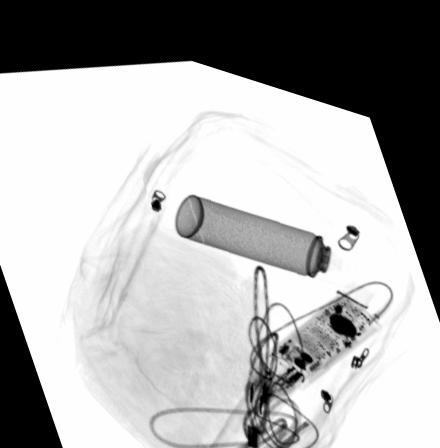Sprayer: (171, 181, 360, 268)
